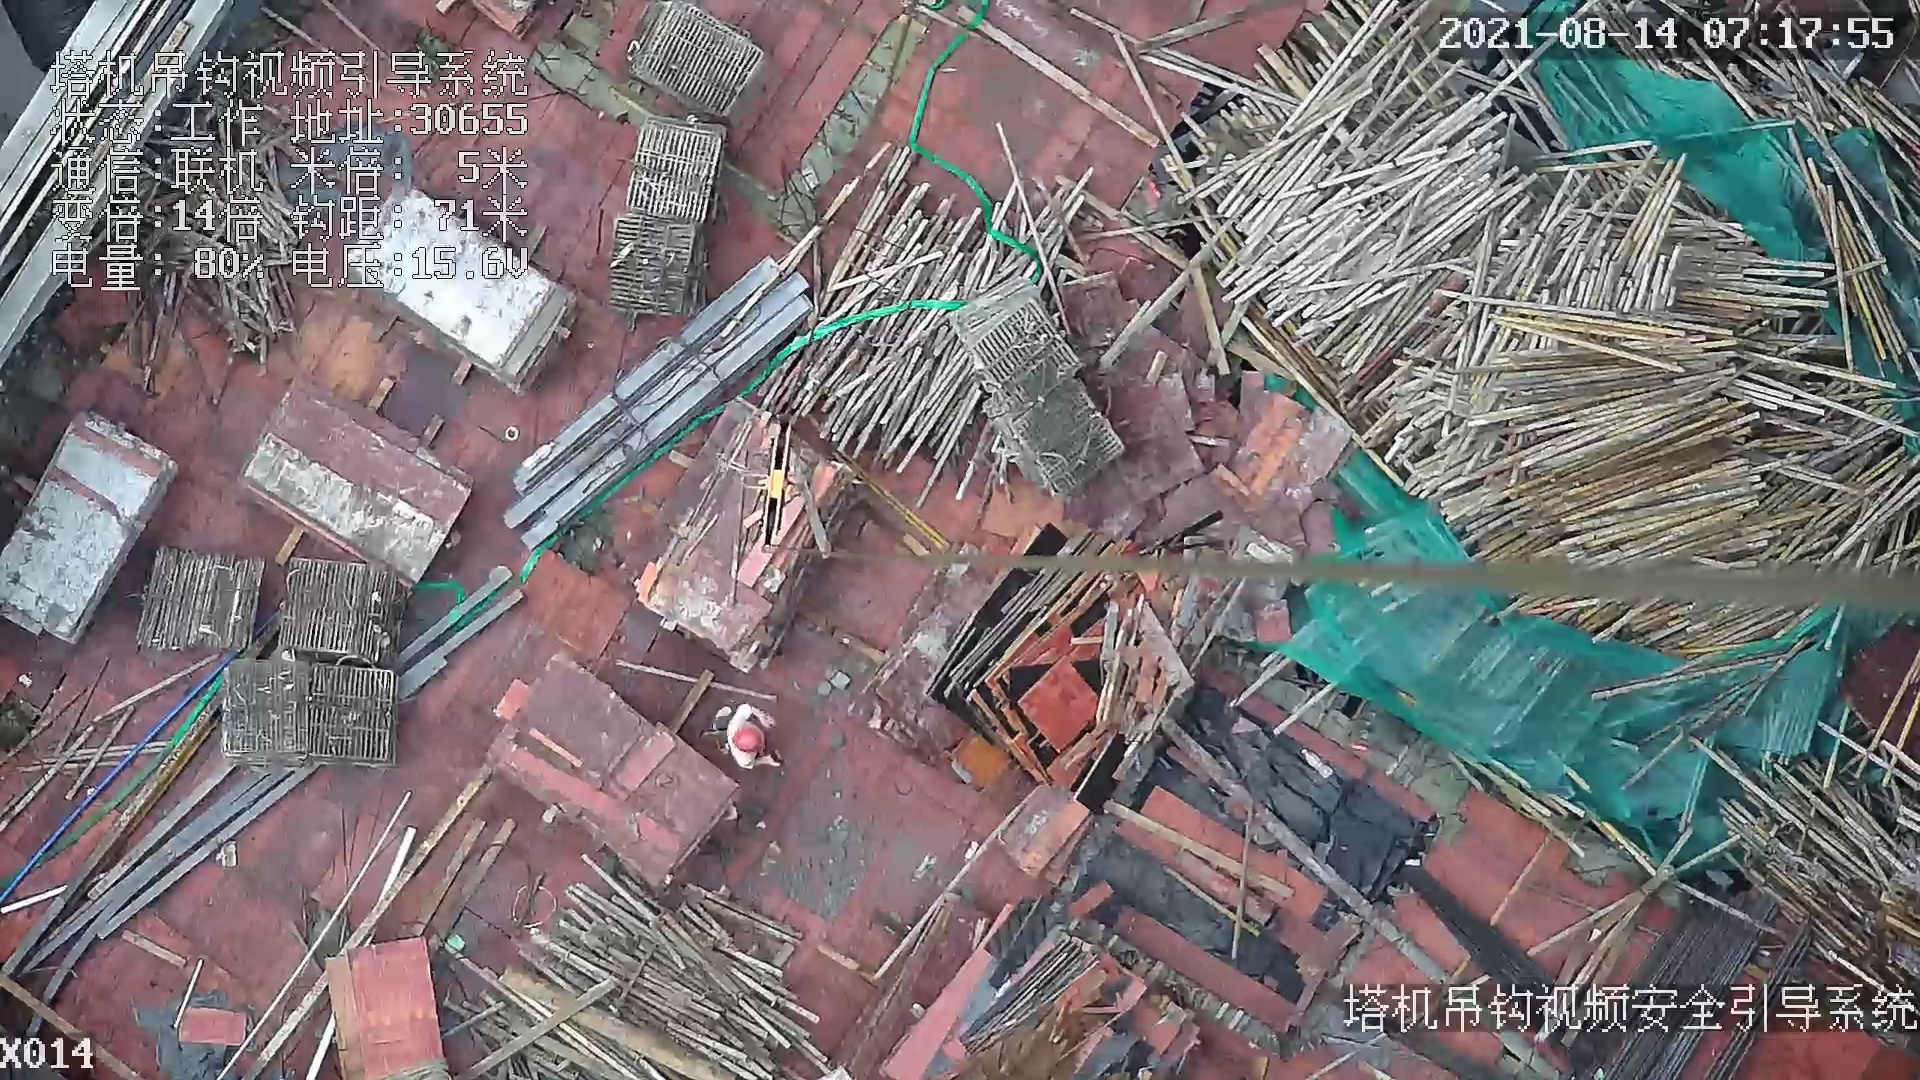helmet: (733, 717, 767, 760)
hook: (744, 408, 796, 549)
person: (697, 700, 797, 776)
